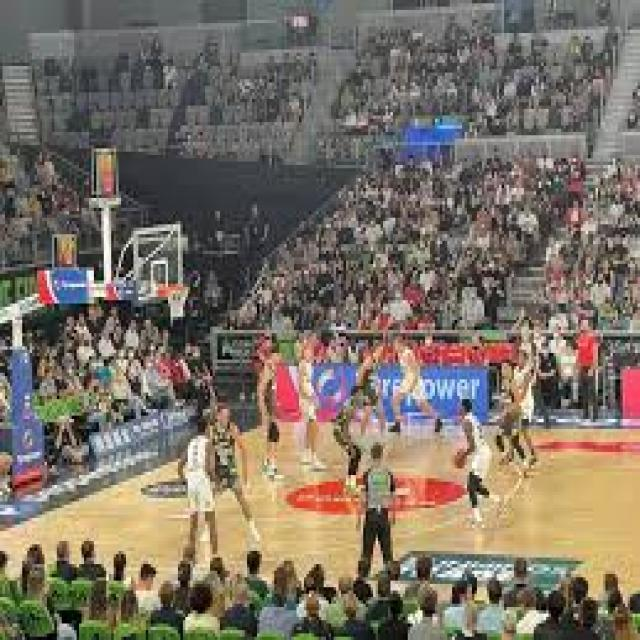rim: (454, 446, 468, 468)
